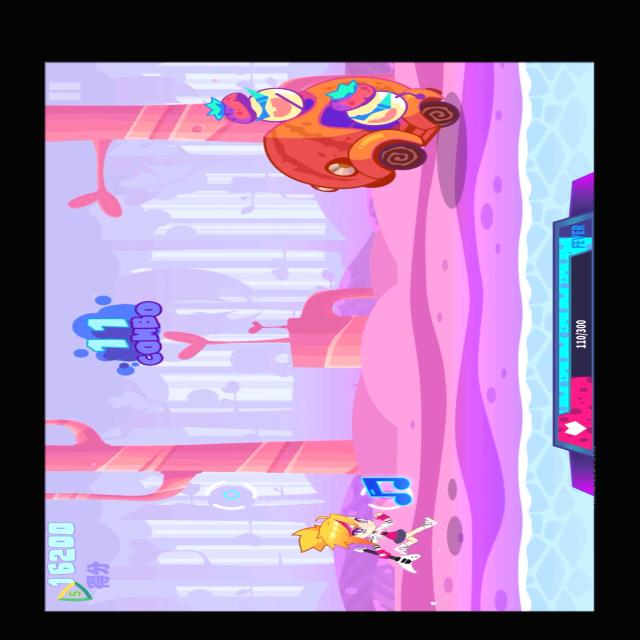Boss-Pumpkin: (205, 74, 464, 195)
incentive-blue Music note: (360, 472, 418, 505)
